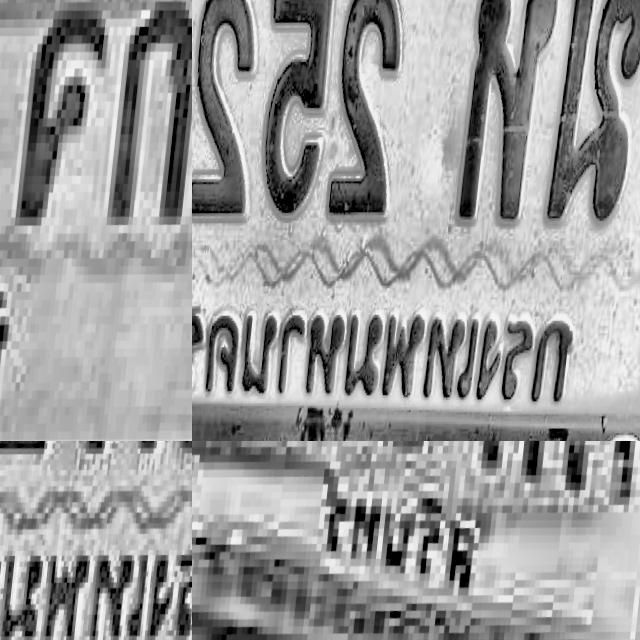license-plate: (192, 0, 640, 441), (192, 441, 640, 640), (0, 0, 192, 441), (0, 441, 192, 640)
